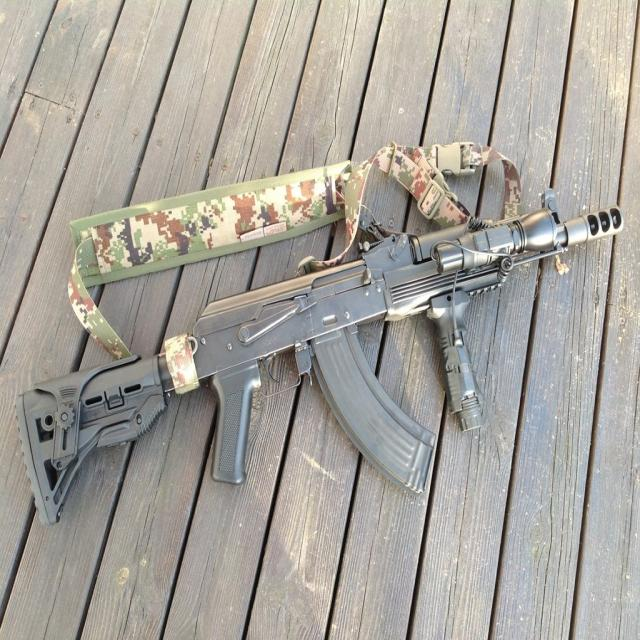firearm: (16, 191, 623, 526)
